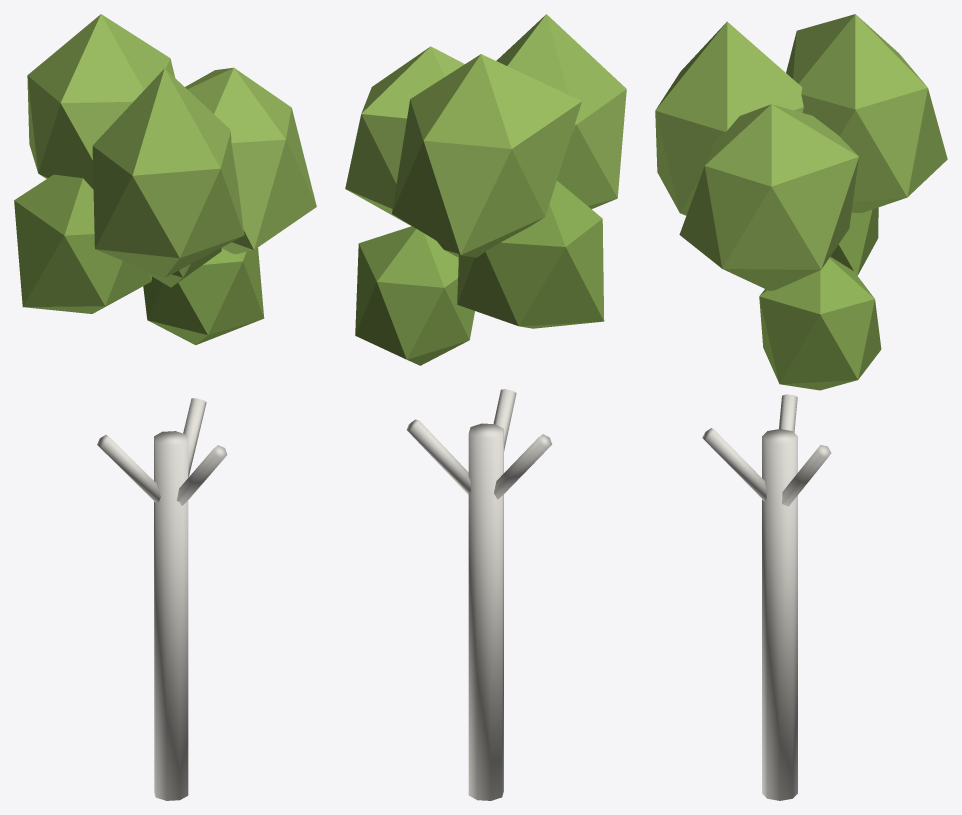
The model's file is leaf_b.glb.
3 views of the same model, side by side, from view 1: azimuth 30°, elevation 25°; view 2: azimuth 150°, elevation 25°; view 3: azimuth 270°, elevation 25° (orthographic). The views are drawn at different scales.
Visible parts, largest first — view 1: leaf_b; view 2: leaf_b; view 3: leaf_b.
Part boxes in pixels (x1,y1,x2,y2): leaf_b: (14, 14, 316, 800); leaf_b: (345, 14, 626, 800); leaf_b: (655, 14, 947, 800).
Bounding box in the file's own units: 3.64 × 10.59 × 3.68.
